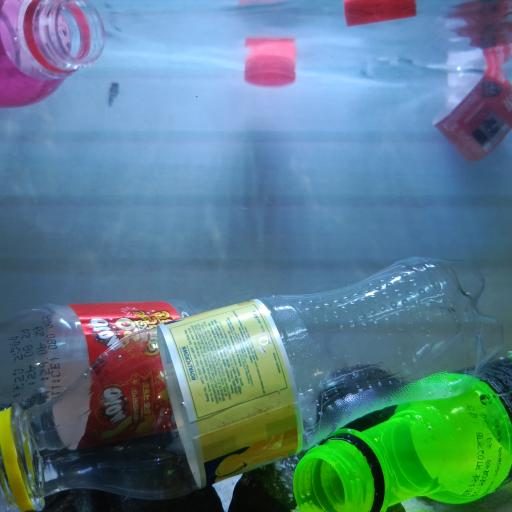bottle_cap: (346, 0, 418, 26), (245, 58, 297, 88)
plastic_bottle: (1, 253, 506, 503), (4, 304, 298, 446), (295, 354, 512, 511), (394, 60, 512, 171), (2, 0, 110, 109)
